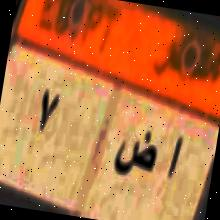7: (29, 84, 66, 143)
alif: (160, 123, 188, 190)
daad: (109, 119, 162, 190)
